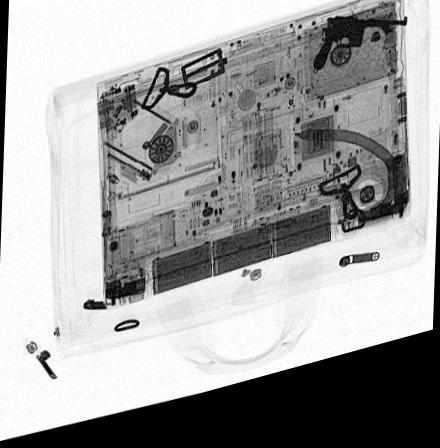Gun: (310, 33, 407, 89)
